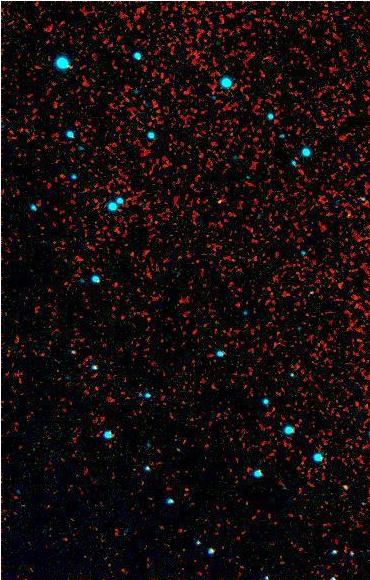star: (207, 185, 237, 215)
